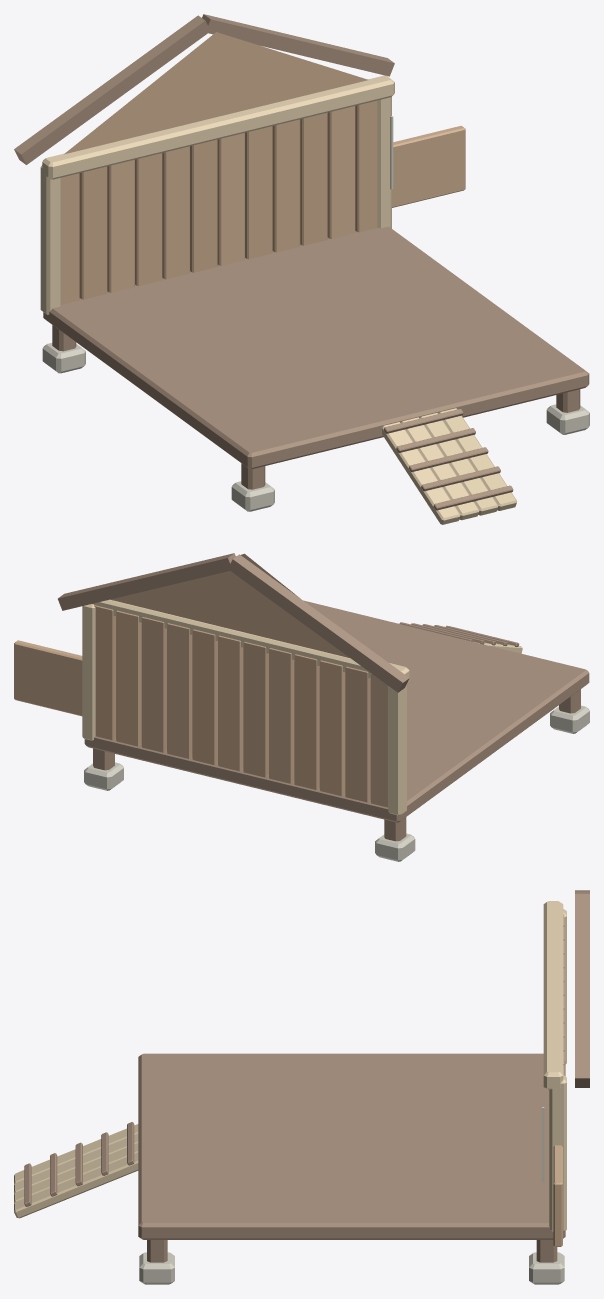
File: crafted-coop-2-ready-back.glb
The picture shows the model from 3 angles, top to bottom: view 1: azimuth 30°, elevation 25°; view 2: azimuth 150°, elevation 25°; view 3: azimuth 270°, elevation 25°; orthographic projection. The views are drawn at different scales.
Parts seen in each view (by area): view 1: floor, gable, header, nest-cheek, barge-board, siding-1, siding-8, siding-10, siding-4, siding-7, siding-9, siding-5 (+15 smaller); view 2: floor, gable, nest-cheek, barge-board, siding-2, siding-3, siding-1, siding-5, siding-7, siding-9, siding-8, siding-6 (+12 smaller); view 3: floor, header, barge-board-2, ramp-board-3, corner-post-2, nest-cheek, stone-foot-2, stone-foot-3, ramp-board-1, ramp-board, ramp-board-2.
Boxes of the visible parts, x1,y1,x2,y2 form: floor: [43, 226, 589, 469]; gable: [64, 32, 368, 154]; header: [42, 75, 394, 179]; nest-cheek: [392, 126, 465, 207]; barge-board: [14, 15, 210, 164]; siding-1: [79, 166, 107, 299]; siding-8: [272, 119, 300, 252]; siding-10: [327, 106, 355, 238]; siding-4: [162, 146, 189, 279]; siding-7: [245, 126, 272, 259]; siding-9: [300, 112, 327, 245]; siding-5: [190, 139, 217, 272]; floor: [84, 600, 589, 822]; gable: [110, 553, 349, 657]; nest-cheek: [14, 640, 82, 716]; barge-board: [228, 554, 409, 692]; siding-2: [319, 660, 345, 796]; siding-3: [294, 654, 319, 789]; siding-1: [345, 666, 370, 802]; siding-5: [243, 641, 268, 777]; siding-7: [192, 629, 217, 764]; siding-9: [141, 617, 166, 752]; siding-8: [167, 623, 192, 758]; siding-6: [218, 635, 243, 771]; floor: [138, 1053, 565, 1239]; header: [543, 901, 563, 1090]; barge-board-2: [575, 894, 589, 1087]; ramp-board-3: [14, 1152, 138, 1218]; corner-post-2: [549, 1075, 566, 1231]; nest-cheek: [553, 1145, 562, 1246]; stone-foot-2: [529, 1252, 564, 1284]; stone-foot-3: [139, 1252, 174, 1284]; ramp-board-1: [14, 1133, 138, 1193]; ramp-board: [14, 1124, 138, 1183]; ramp-board-2: [14, 1143, 138, 1202].
Size of the model in its own units: 2.76 by 1.81 by 3.07.
